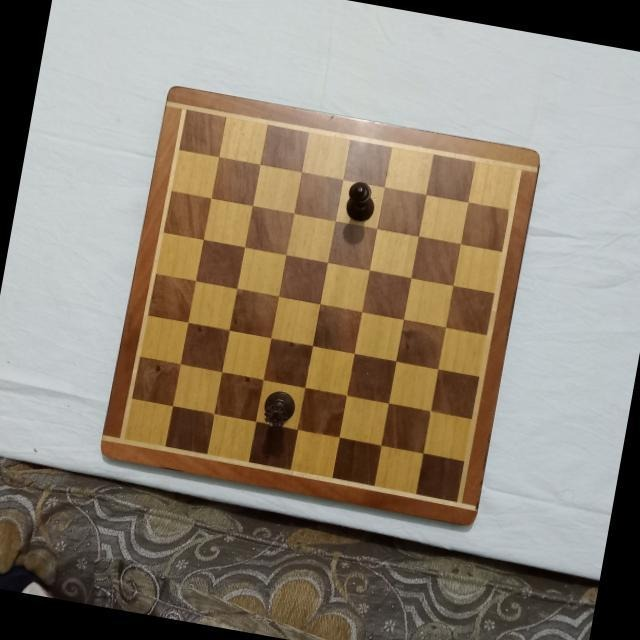black-king: (340, 177, 379, 224)
black-queen: (261, 388, 299, 431)
